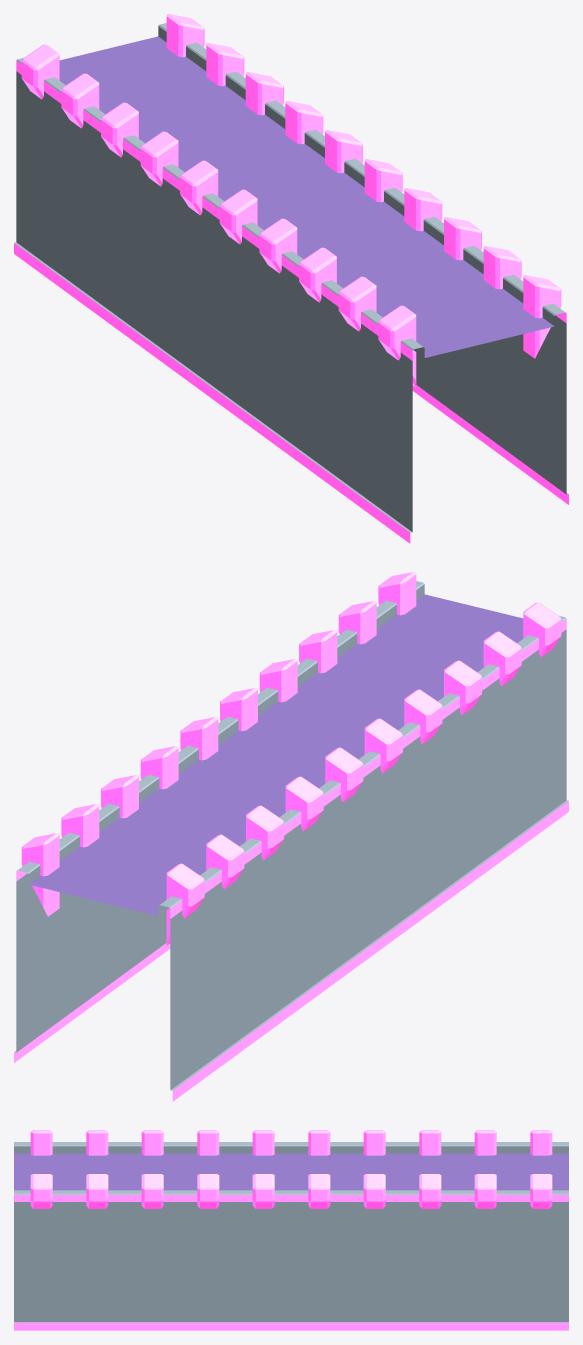
Rendered from castle_wall_repeatable1.fbx.
The picture shows the model from 3 angles, top to bottom: view 1: azimuth 30°, elevation 25°; view 2: azimuth 150°, elevation 25°; view 3: azimuth 270°, elevation 25°; orthographic projection. The views are drawn at different scales.
Visible parts, largest first — view 1: castle_wall_repeatable1_1, merlons; view 2: castle_wall_repeatable1_1, merlons; view 3: castle_wall_repeatable1_1, merlons.
Part boxes in pixels (x1=…): castle_wall_repeatable1_1: x1=14, y1=23, x2=568, y2=543; merlons: x1=21, y1=14, x2=561, y2=387; castle_wall_repeatable1_1: x1=14, y1=581, x2=568, y2=1101; merlons: x1=21, y1=572, x2=561, y2=945; castle_wall_repeatable1_1: x1=14, y1=1142, x2=568, y2=1330; merlons: x1=30, y1=1130, x2=552, y2=1208.
Size of the model in its own units: 1179 by 1419 by 4729.
